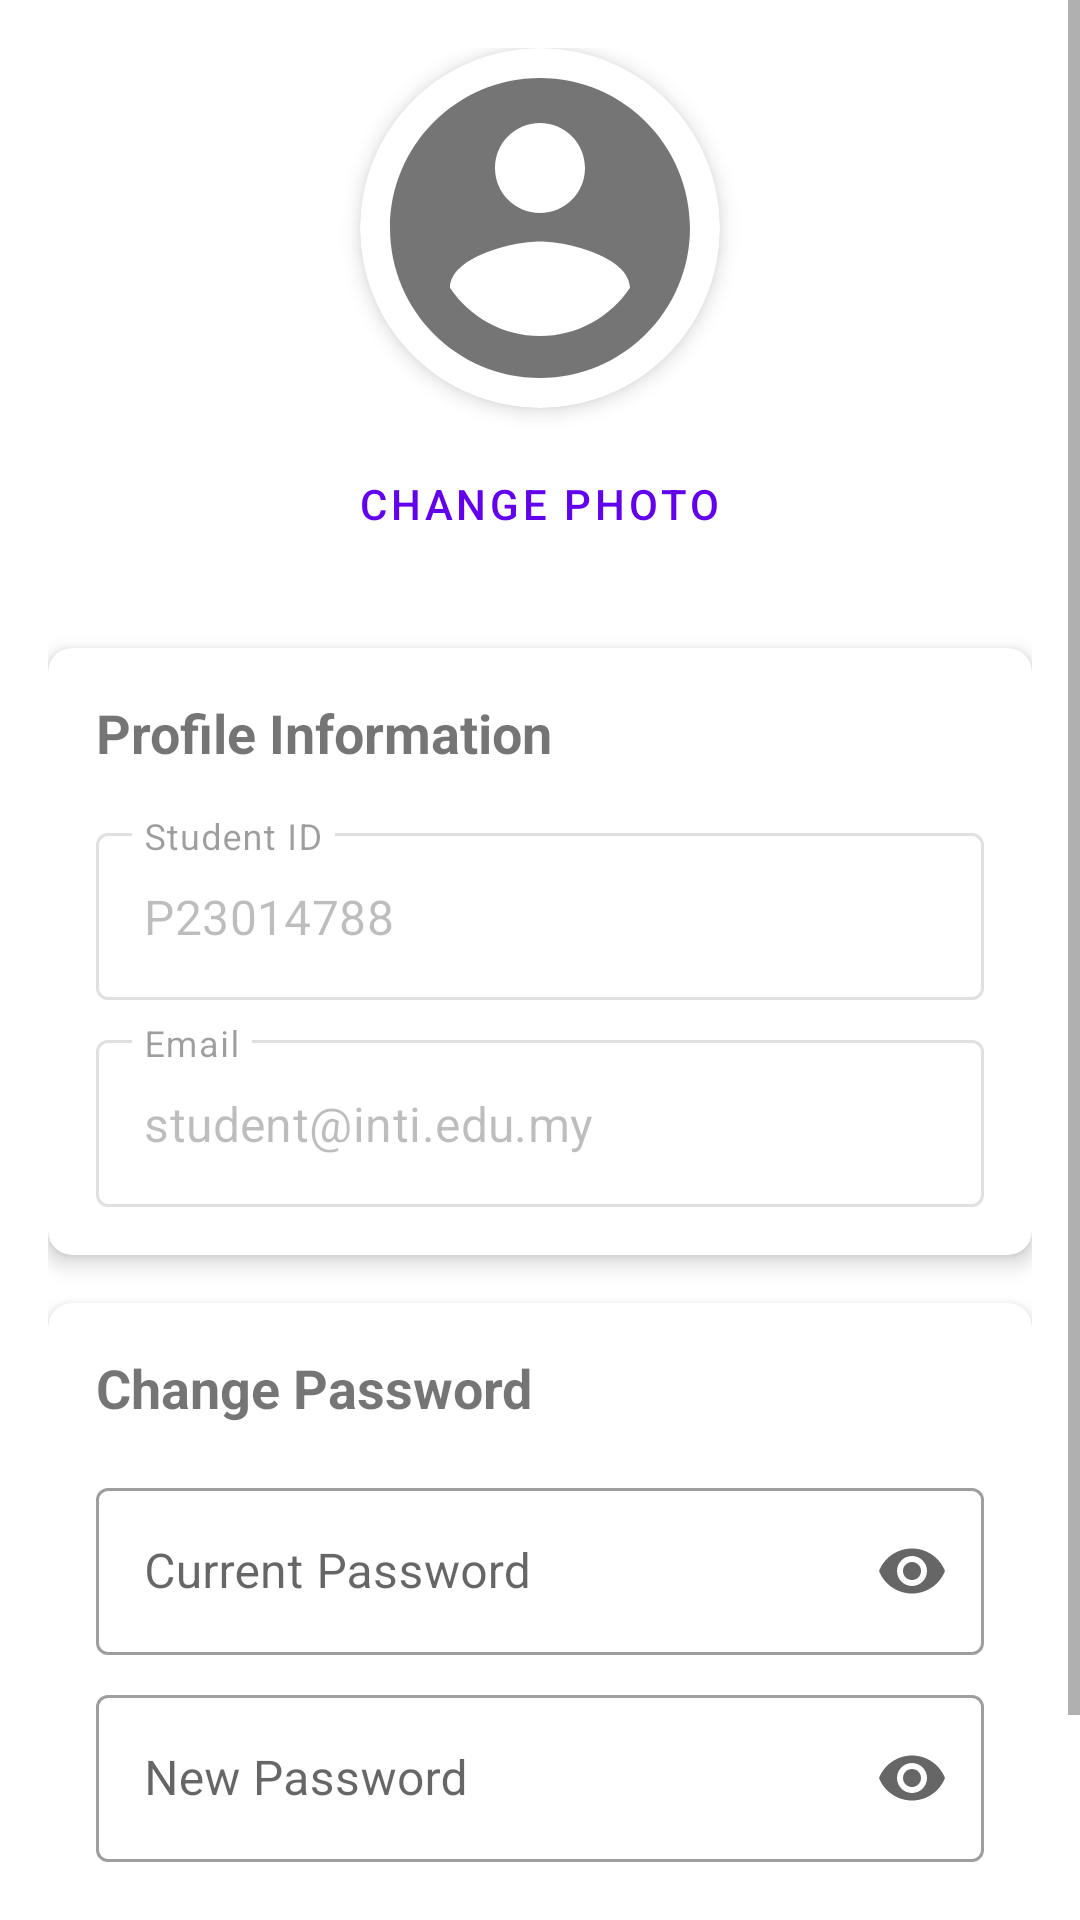

Where to tap for icons on this 1080 x 1920 app screen, as (x,y):
profile: (544,243)
